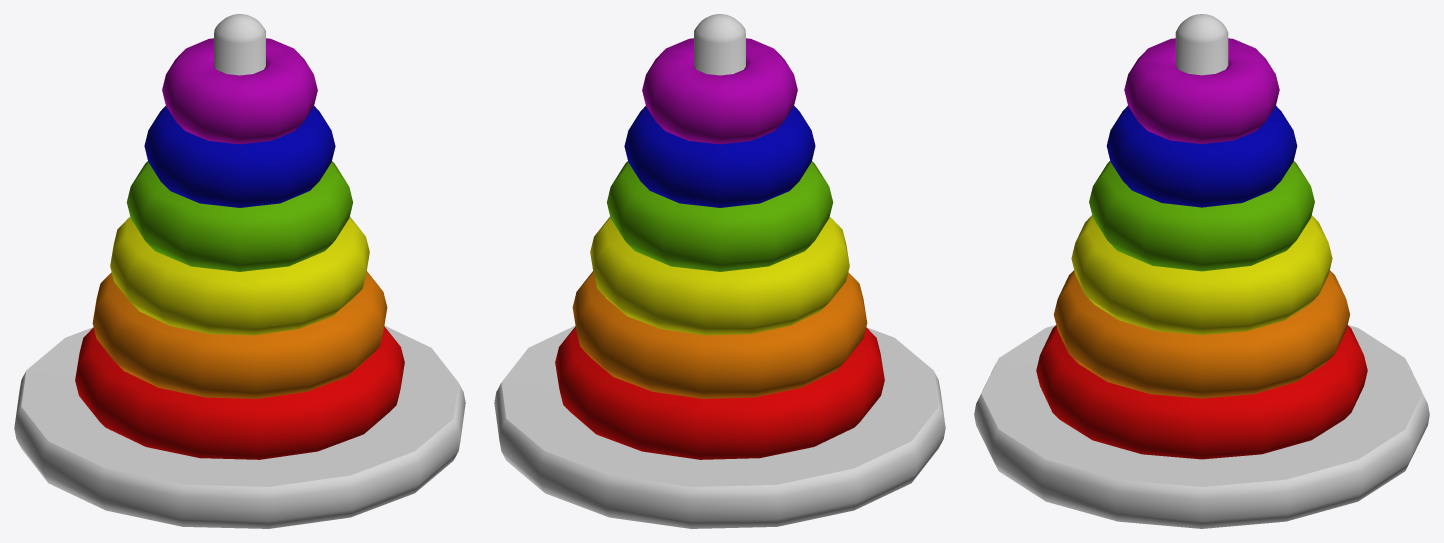
The model's file is Ring Toy.dae.
3 views of the same model, side by side, from view 1: azimuth 30°, elevation 25°; view 2: azimuth 150°, elevation 25°; view 3: azimuth 270°, elevation 25° (orthographic).
Visible parts, largest first — view 1: Sphere_004; view 2: Sphere_004; view 3: Sphere_004.
Boxes of the visible parts, x1,y1,x2,y2 form: Sphere_004: (14,14,465,528); Sphere_004: (494,14,945,528); Sphere_004: (974,14,1429,528).
Bounding box in the file's own units: 1.97 × 1.97 × 2.
